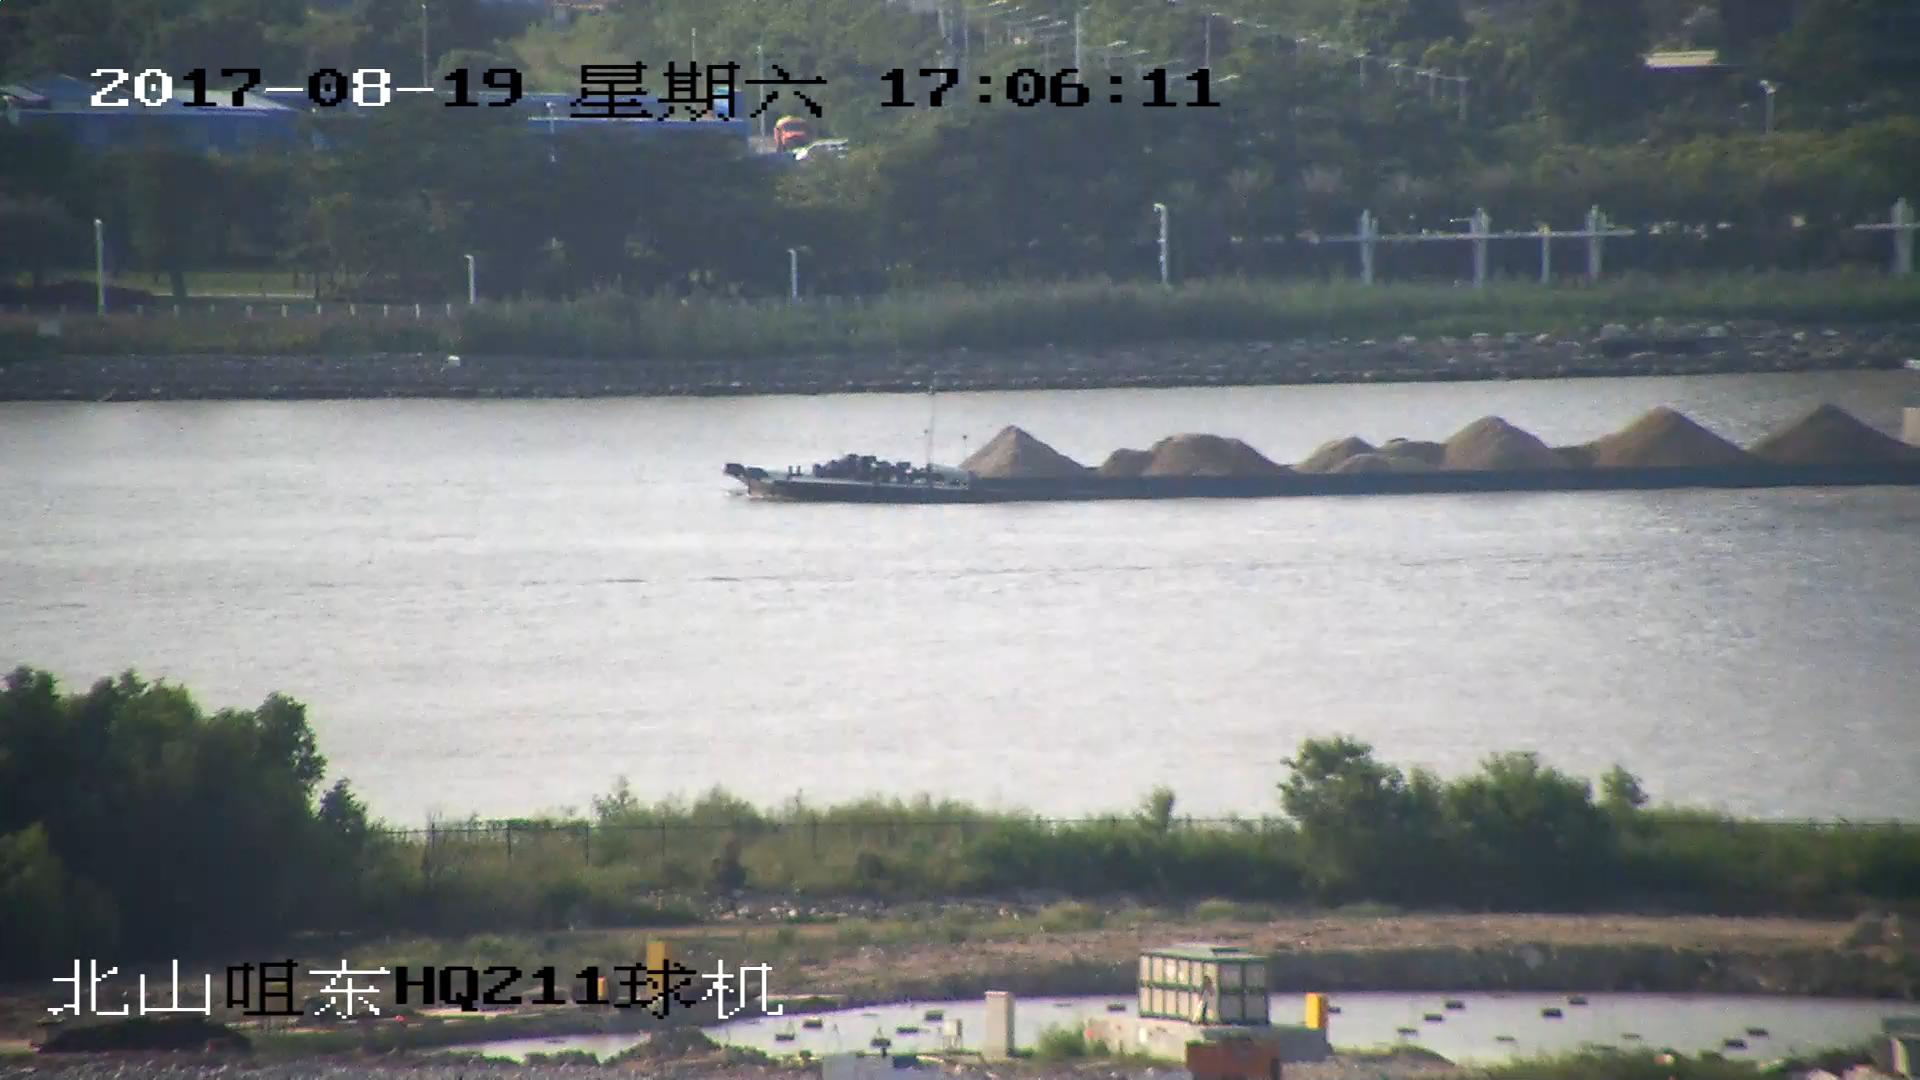ore carrier: (728, 396, 1920, 513)
